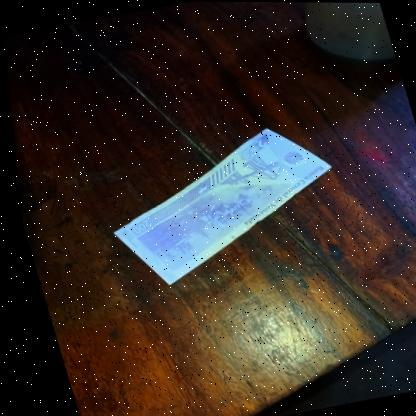two_hundred-back-vef: (84, 114, 356, 294)
